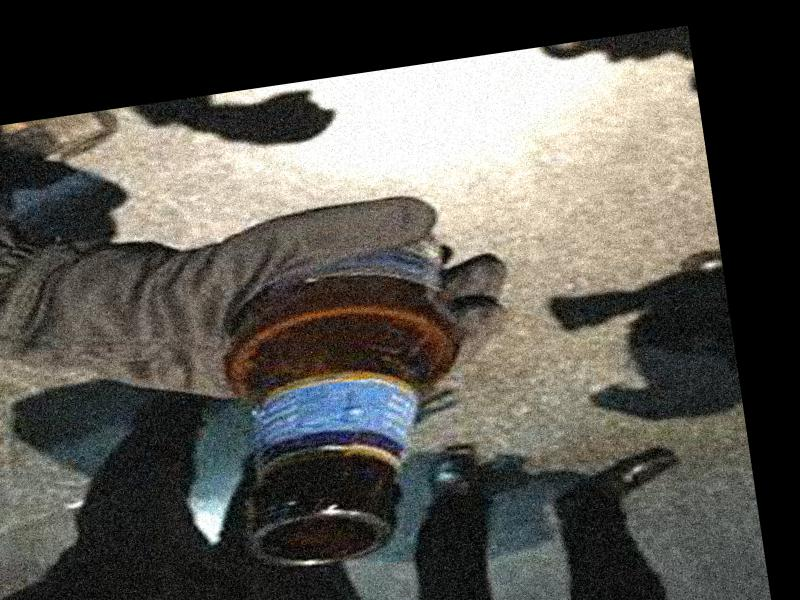Beer: (199, 209, 500, 575)
